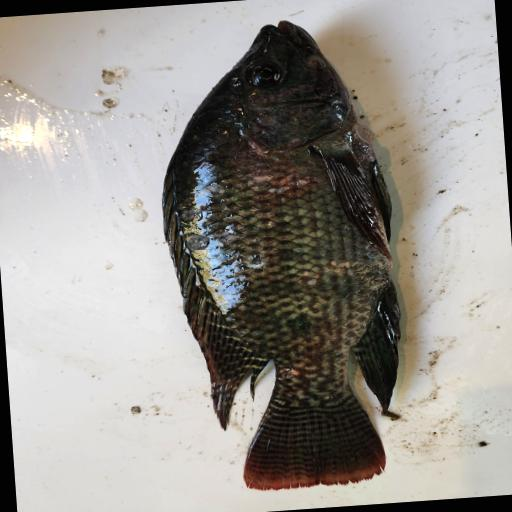Tilapia: (149, 14, 414, 498)
